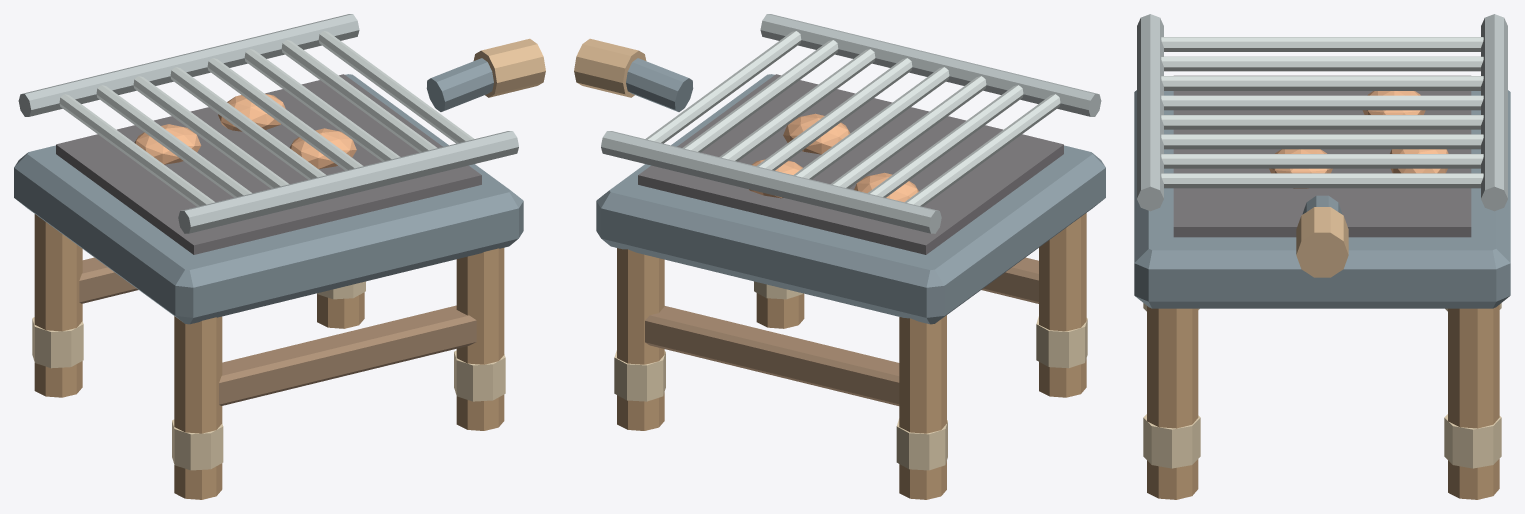
The model's file is compact_grill.glb.
3 renders of one model, left to right at view 1: azimuth 30°, elevation 25°; view 2: azimuth 150°, elevation 25°; view 3: azimuth 270°, elevation 25°, orthographic. The views are drawn at different scales.
Parts seen in each view (by area): view 1: compact_grill_iron, compact_grill_metal_edge, compact_grill_coal, compact_grill_wood_mid, compact_grill_metal, compact_grill_wood_bark, compact_grill_rope, compact_grill_ember, compact_grill_wood_honey; view 2: compact_grill_iron, compact_grill_coal, compact_grill_metal_edge, compact_grill_wood_mid, compact_grill_metal, compact_grill_wood_bark, compact_grill_rope, compact_grill_wood_honey, compact_grill_ember; view 3: compact_grill_metal_edge, compact_grill_iron, compact_grill_coal, compact_grill_wood_mid, compact_grill_metal, compact_grill_rope, compact_grill_wood_honey, compact_grill_ember.
Boxes of the visible parts, x1,y1,x2,y2 form: compact_grill_iron: [14, 58, 523, 324]; compact_grill_metal_edge: [59, 31, 474, 206]; compact_grill_coal: [56, 74, 481, 254]; compact_grill_wood_mid: [34, 214, 504, 499]; compact_grill_metal: [18, 14, 518, 233]; compact_grill_wood_bark: [79, 257, 476, 405]; compact_grill_rope: [32, 281, 505, 470]; compact_grill_ember: [134, 93, 356, 168]; compact_grill_wood_honey: [473, 38, 545, 97]; compact_grill_iron: [596, 58, 1105, 324]; compact_grill_coal: [638, 74, 1063, 254]; compact_grill_metal_edge: [645, 31, 1060, 206]; compact_grill_wood_mid: [617, 213, 1086, 499]; compact_grill_metal: [601, 14, 1101, 233]; compact_grill_wood_bark: [645, 257, 1038, 405]; compact_grill_rope: [614, 281, 1087, 470]; compact_grill_wood_honey: [574, 38, 646, 97]; compact_grill_ember: [749, 113, 918, 202]; compact_grill_metal_edge: [1161, 37, 1483, 188]; compact_grill_iron: [1134, 90, 1510, 308]; compact_grill_coal: [1173, 75, 1471, 237]; compact_grill_wood_mid: [1147, 305, 1499, 499]; compact_grill_metal: [1137, 14, 1507, 211]; compact_grill_rope: [1143, 303, 1501, 468]; compact_grill_wood_honey: [1296, 207, 1348, 277]; compact_grill_ember: [1269, 91, 1448, 188].
Bounding box in the file's own units: 1.53 × 0.9894 × 1.05.
